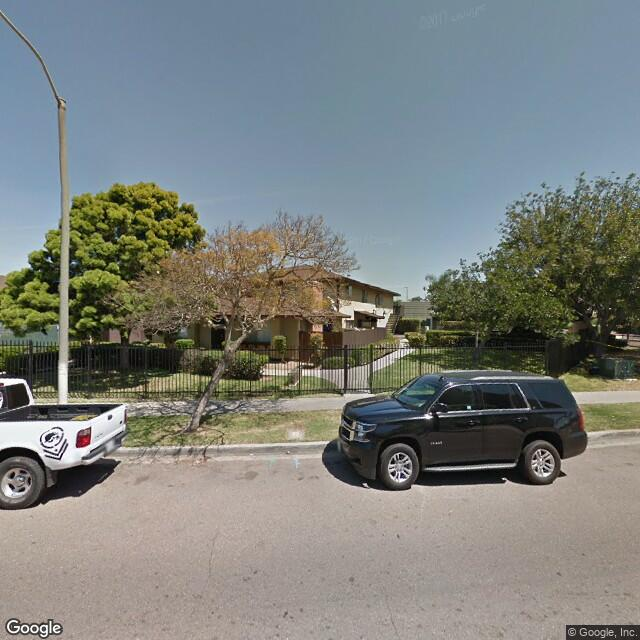litter: (191, 451, 209, 468), (279, 440, 301, 453), (243, 449, 264, 462)
